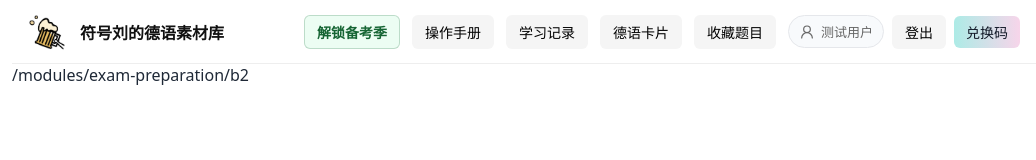
exam preparation scoped navigation › includes the active level in the checkout return path
What coordinates should you click on to do the following:
click the button "解锁备考季"
I would click on:
 (352, 32)
Its box is [304,14,400,48].
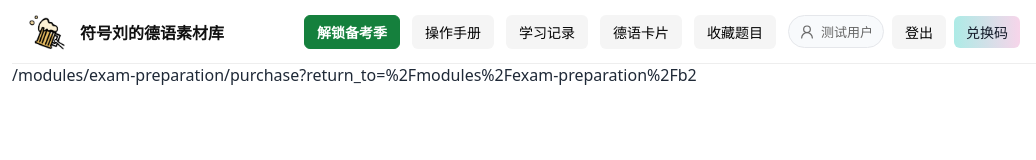
Expected: the text with test id "location" reads "/modules/exam-preparation/purchase?return_to=%2Fmodules%2Fexam-preparation%2Fb2", [12,64,697,86]
